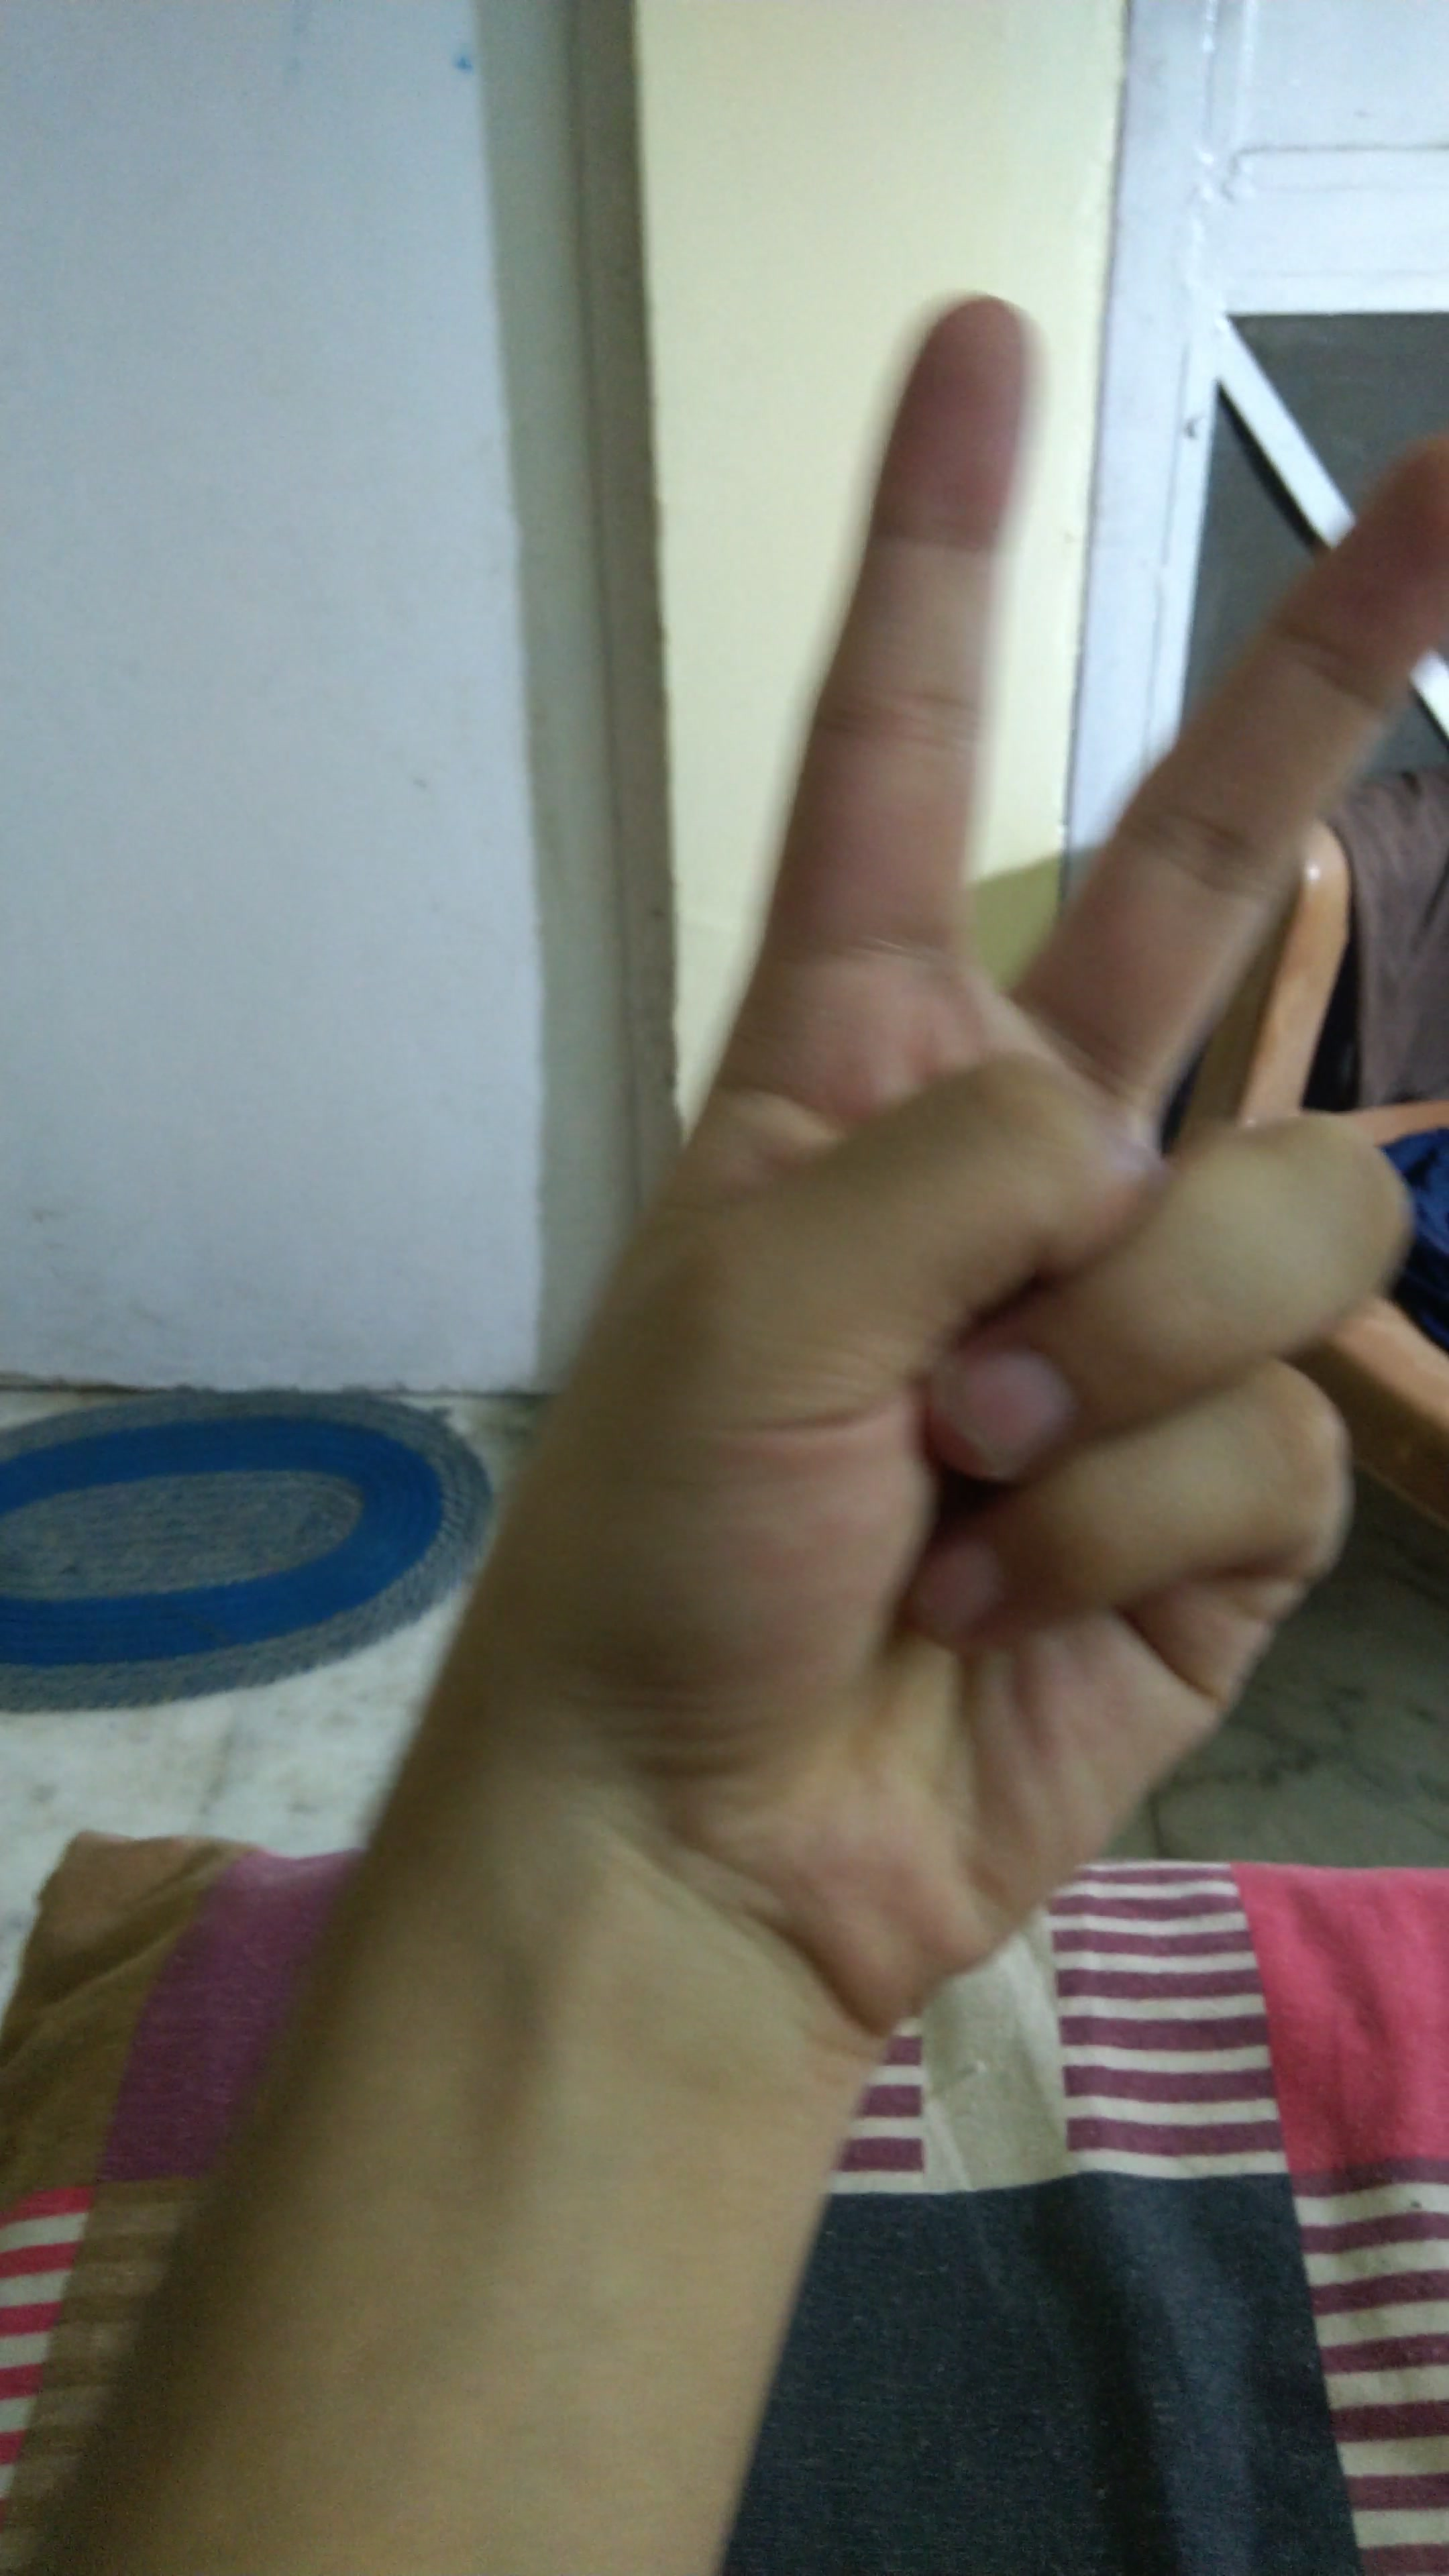hand: (281, 230, 1449, 2035)
